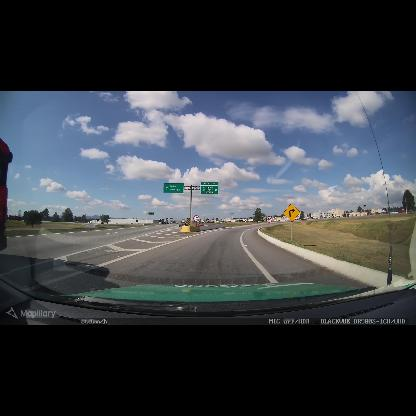O-MP: (186, 218, 190, 225)
R-19: (266, 216, 272, 223), (193, 215, 199, 221)
